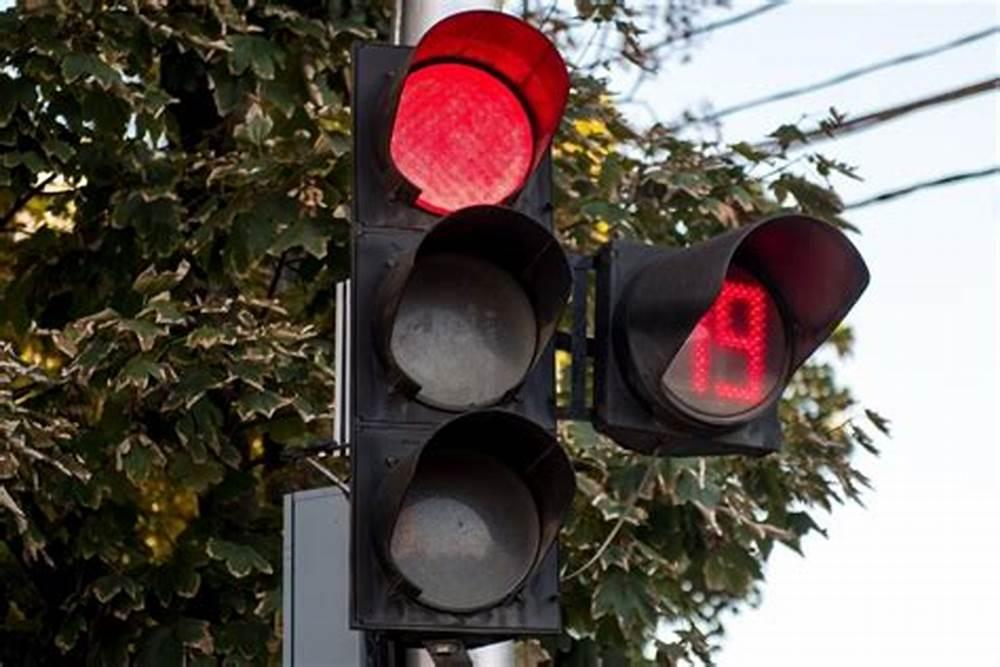red: (340, 5, 583, 630)
